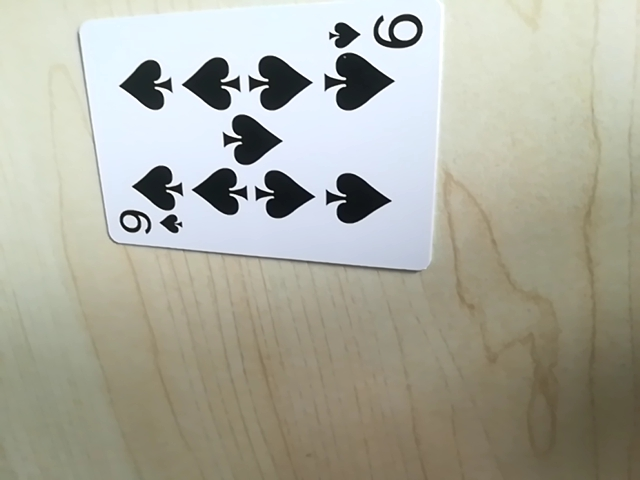ht 9: (325, 6, 425, 55), (111, 207, 186, 245)
